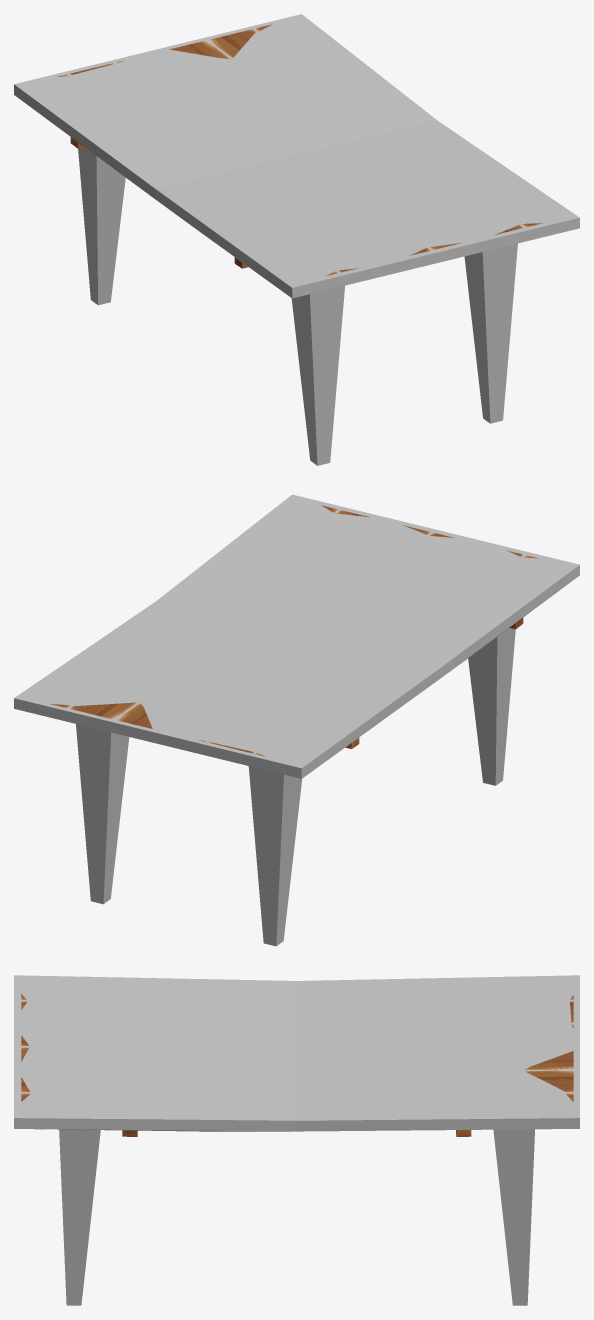
Rendered from SM_Table02.fbx.
3 renders of one model, top to bottom at view 1: azimuth 30°, elevation 25°; view 2: azimuth 150°, elevation 25°; view 3: azimuth 270°, elevation 25°, orthographic.
Parts seen in each view (by area): view 1: SM_Table02_ConvexHulls, SM_Table02; view 2: SM_Table02_ConvexHulls, SM_Table02; view 3: SM_Table02_ConvexHulls, SM_Table02.
Boxes of the visible parts, bbox=[...] form: SM_Table02_ConvexHulls: bbox=[14, 14, 579, 465]; SM_Table02: bbox=[57, 24, 542, 275]; SM_Table02_ConvexHulls: bbox=[14, 494, 579, 946]; SM_Table02: bbox=[49, 505, 537, 756]; SM_Table02_ConvexHulls: bbox=[14, 975, 579, 1305]; SM_Table02: bbox=[21, 994, 573, 1136].
Bounding box in the file's own units: 121 × 203 × 84.18.
2 materials, 1 textured.
